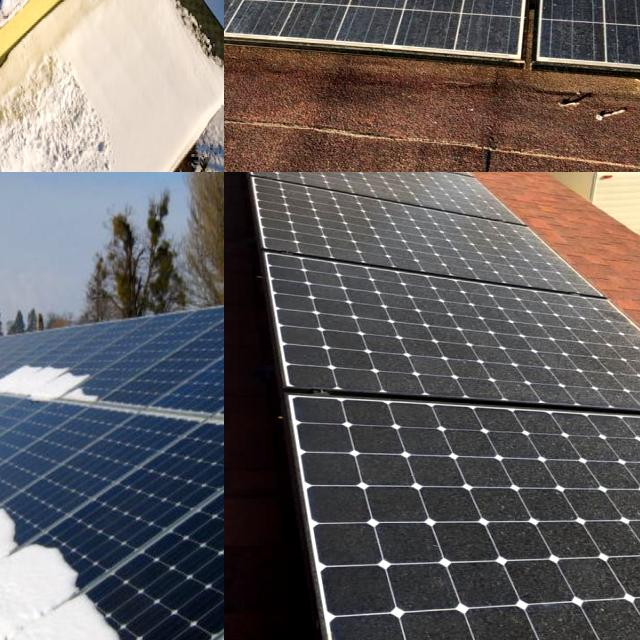dust: (304, 406, 474, 584), (499, 416, 640, 583), (302, 263, 448, 387), (497, 295, 640, 414), (232, 0, 393, 64), (408, 211, 548, 283), (389, 611, 640, 640), (348, 172, 481, 224), (418, 0, 534, 47), (224, 0, 272, 34)
panel: (7, 356, 108, 438), (0, 524, 71, 640), (0, 423, 53, 540), (16, 534, 84, 610), (94, 592, 180, 640), (3, 0, 70, 58), (0, 83, 34, 169), (0, 404, 30, 492), (36, 0, 111, 23), (0, 491, 26, 556), (0, 69, 33, 118), (0, 0, 32, 50), (0, 372, 34, 418), (60, 0, 115, 28), (0, 0, 34, 40), (0, 351, 29, 396), (20, 0, 89, 18), (0, 459, 22, 515), (0, 0, 58, 21), (0, 350, 28, 393), (0, 367, 24, 417), (0, 0, 41, 26), (0, 0, 38, 26), (0, 0, 20, 47), (0, 14, 19, 49), (0, 0, 25, 26), (0, 0, 28, 22), (0, 0, 30, 20), (0, 0, 23, 26), (0, 0, 26, 21), (0, 0, 27, 16), (0, 0, 20, 21)
